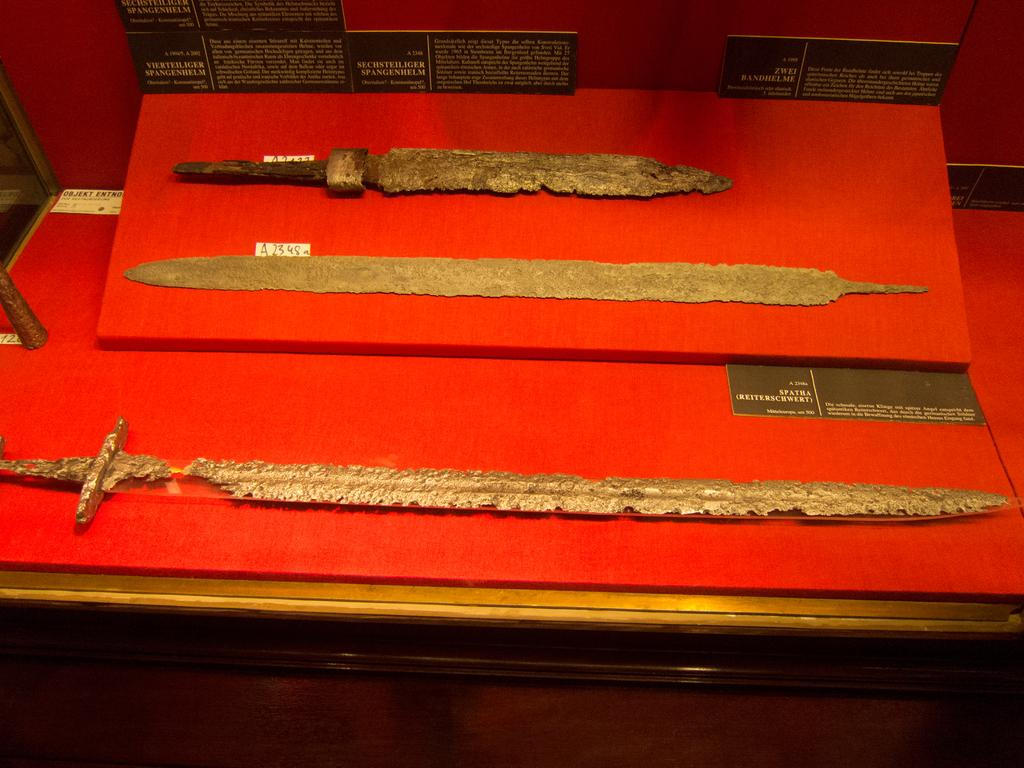Sword: (0, 417, 1011, 524), (123, 254, 929, 305), (176, 148, 734, 196)
